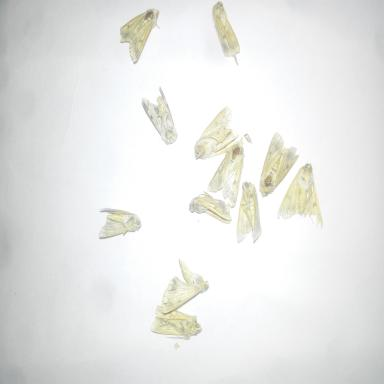abw: (278, 158, 329, 232), (190, 103, 246, 166), (160, 252, 214, 316), (204, 141, 252, 211), (258, 129, 302, 201), (115, 4, 166, 65), (140, 84, 184, 150), (148, 295, 206, 342), (207, 1, 244, 70), (230, 177, 266, 247), (94, 200, 146, 245), (184, 189, 237, 229)
